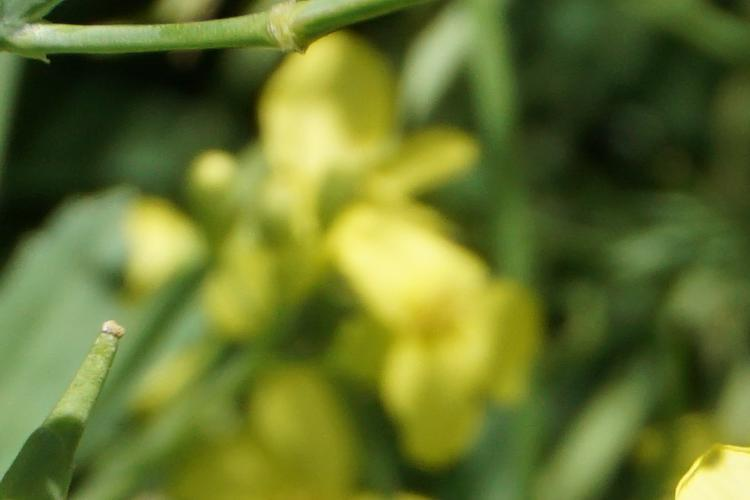pod: (27, 311, 142, 479)
